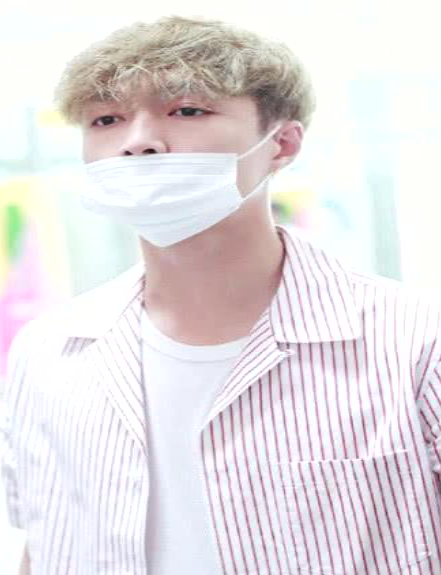mask_weared_incorrect: (74, 97, 263, 251)
